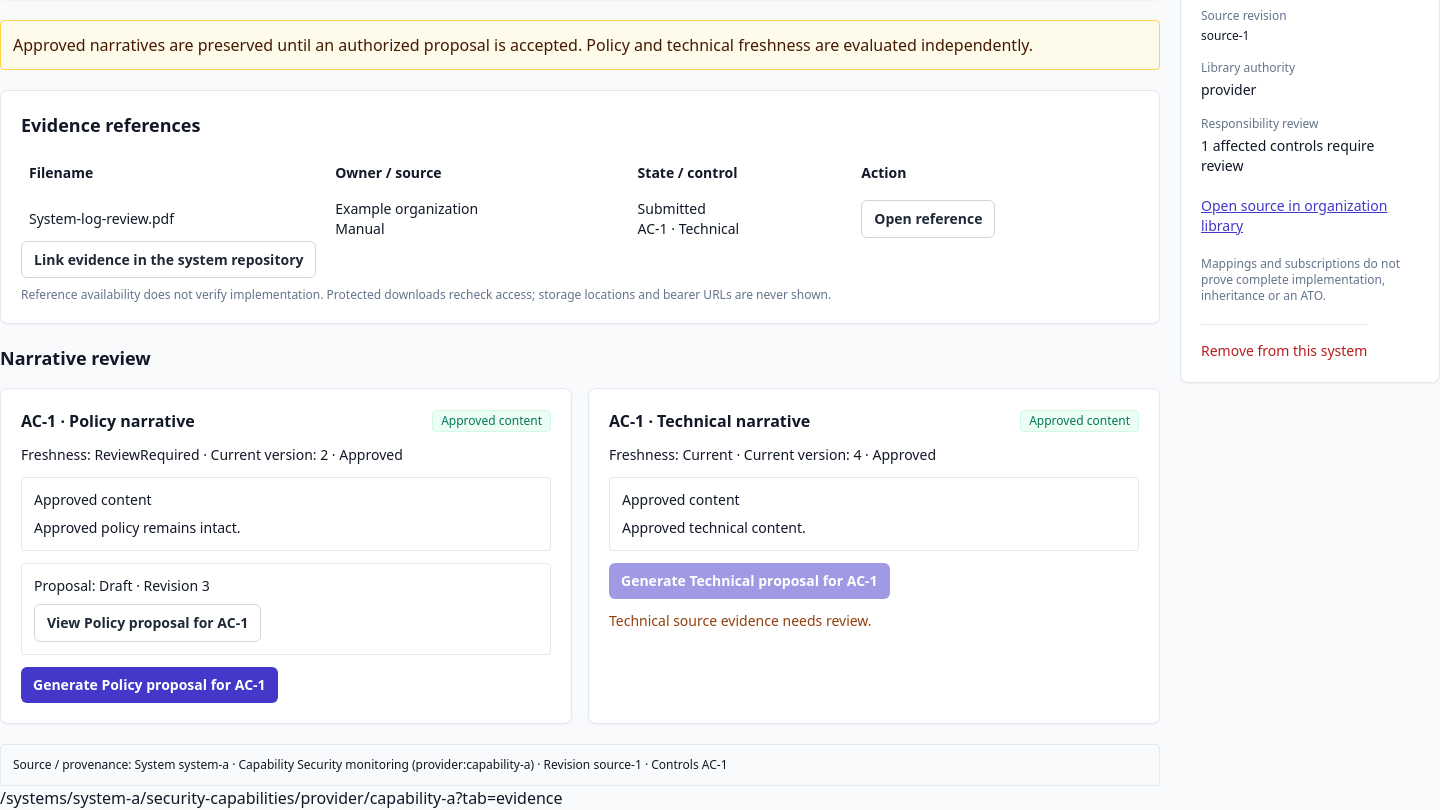
Test: System capability detail › blocks a stale proposal read instead of approving its earlier revision
The width and height of the screenshot is (1440, 810).
(page scrolled)
What coordinates should you click on to do the following:
click the button "View Policy proposal for AC-1"
I would click on:
 (148, 623)
Its box is [34,604,261,642].
(page scrolled)
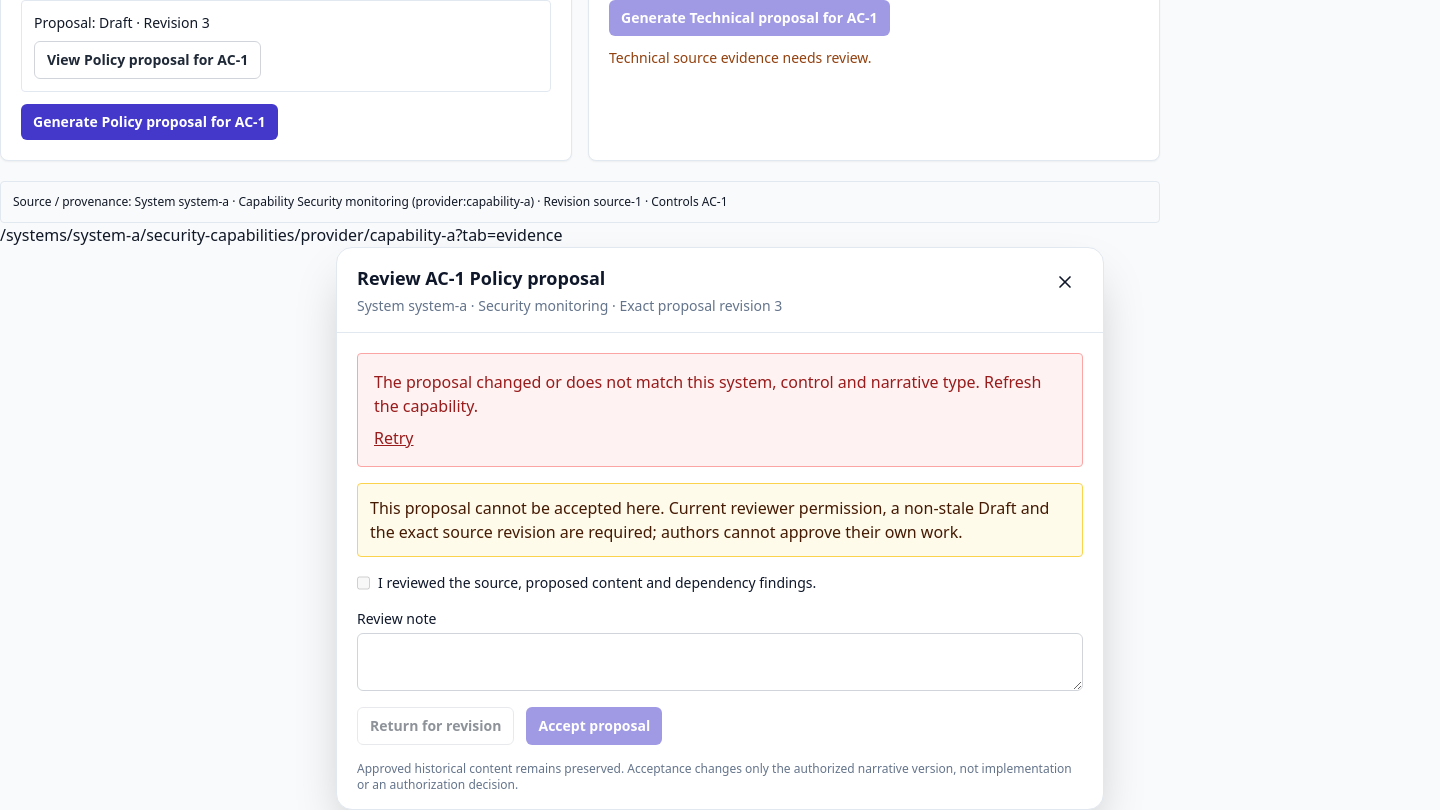
Expected: the message shows "proposal changed", [374,371,1041,417]
Expected: the button "Accept proposal" is disabled, [526,707,662,745]
